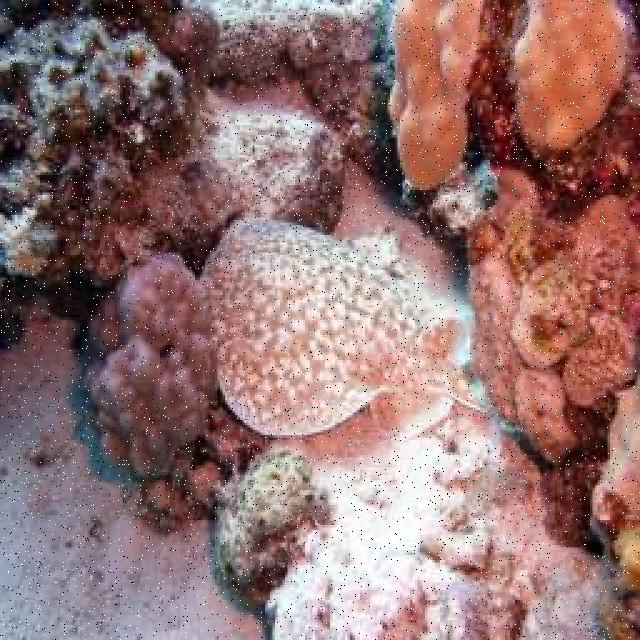fish: (202, 218, 503, 439)
reefs: (463, 169, 638, 458), (82, 249, 217, 479), (386, 0, 485, 191), (513, 0, 626, 151)
